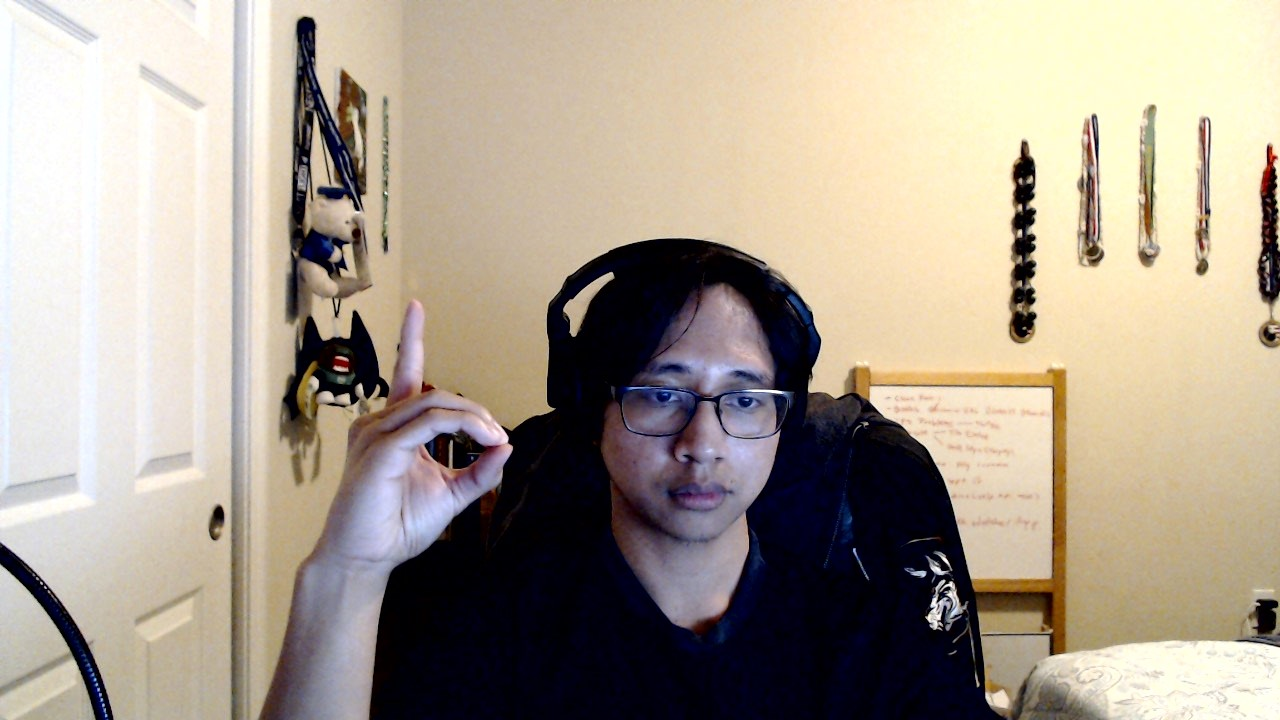d: (295, 297, 515, 572)
